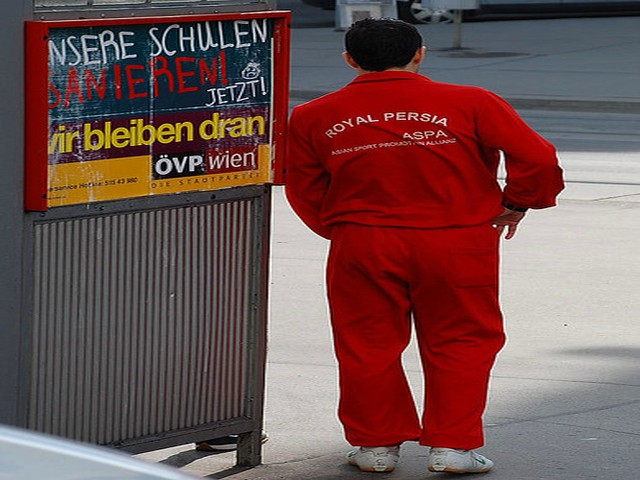Person: (283, 17, 568, 474)
